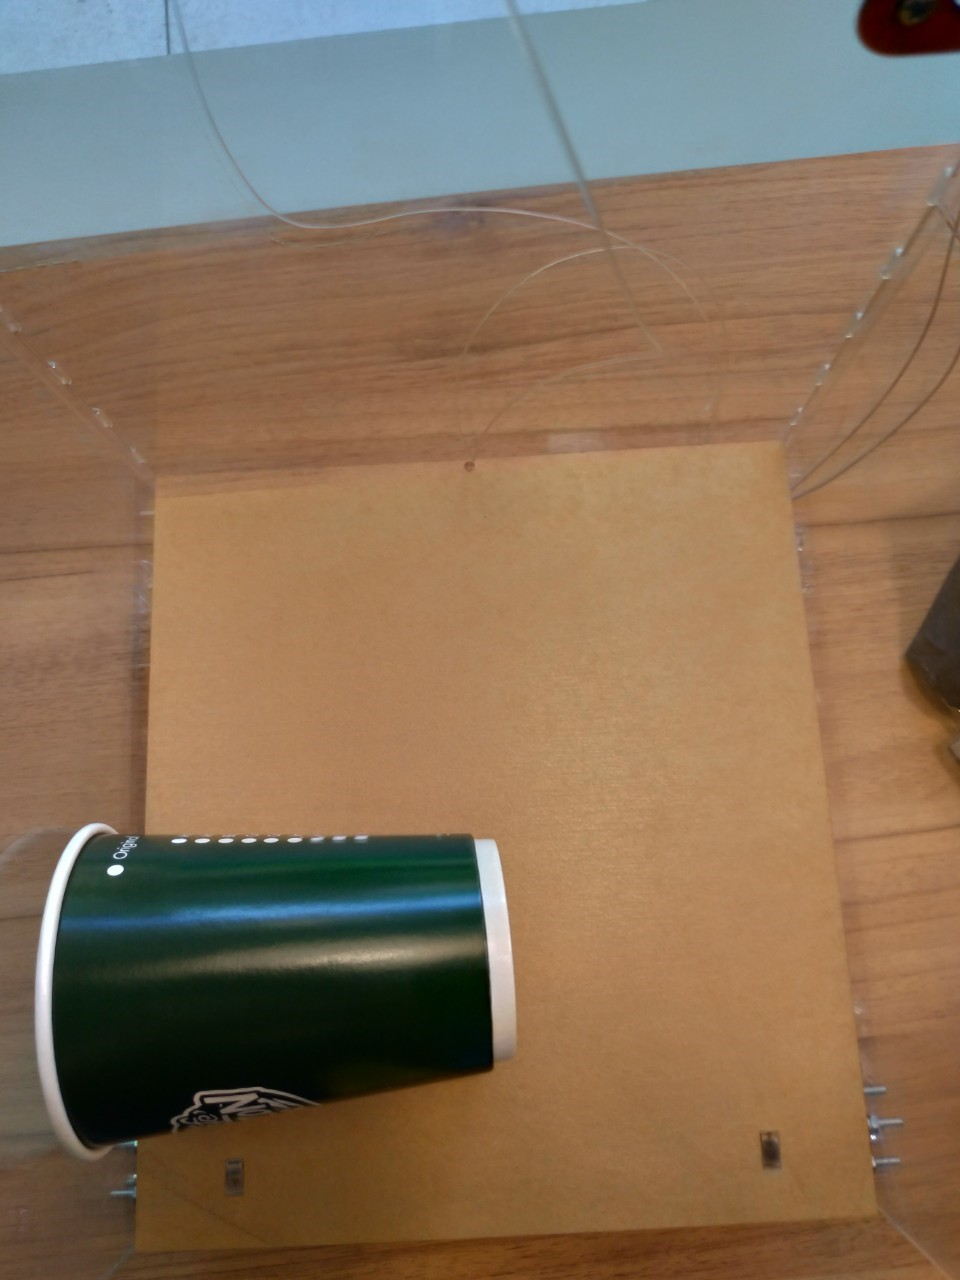PaperCup: (33, 823, 516, 1161)
